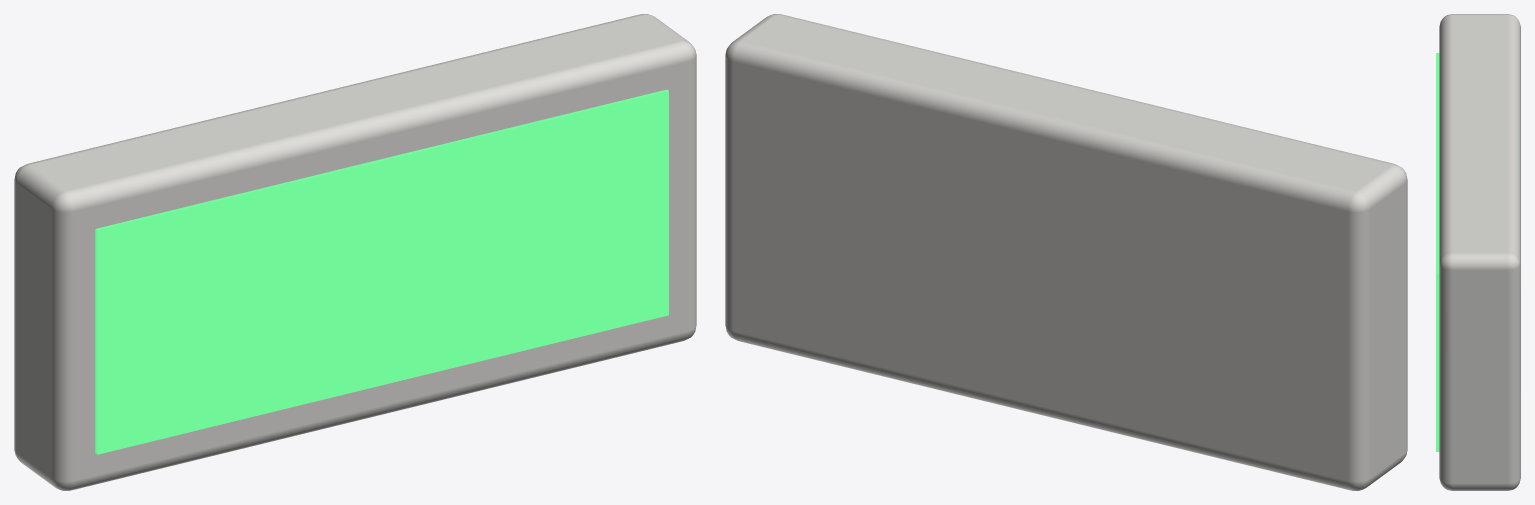
File: exit_sign.glb
3 renders of one model, left to right at view 1: azimuth 30°, elevation 25°; view 2: azimuth 150°, elevation 25°; view 3: azimuth 270°, elevation 25°, orthographic. The views are drawn at different scales.
Visible parts, largest first — view 1: exit_sign__display_green, exit_sign__plastic_white; view 2: exit_sign__plastic_white; view 3: exit_sign__plastic_white, exit_sign__display_green.
Part boxes in pixels (<box>): exit_sign__display_green: <box>95,89,668,454</box>; exit_sign__plastic_white: <box>14,14,696,490</box>; exit_sign__plastic_white: <box>725,14,1407,490</box>; exit_sign__plastic_white: <box>1439,14,1520,490</box>; exit_sign__display_green: <box>1436,53,1439,451</box>.
Size of the model in its own units: 0.36 by 0.16 by 0.052.
